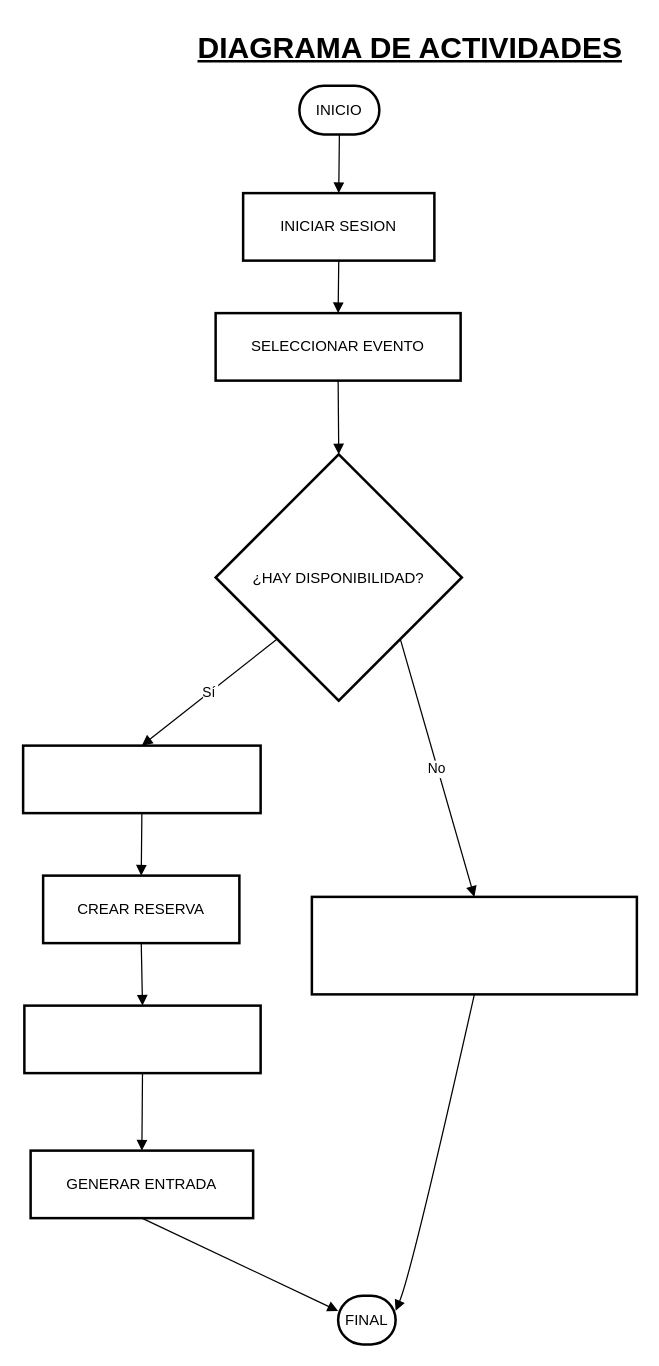
Image size: 659x1366. Some labels were removed from this diagram. Each missing label, with the centre of its shape:
CONFIRMAR RESERVA: the point at 141,1039
MOSTRAR MENSAJE DE CUPO NO DISPONIBLE: the point at 474,945
REGISTRAR VISITANTE: the point at 141,779
